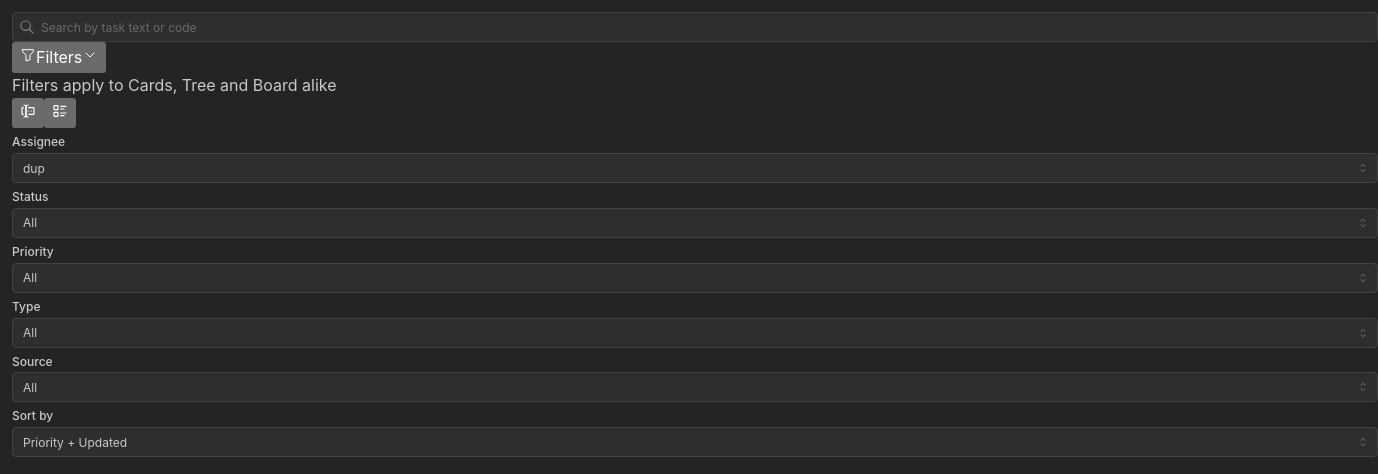
it: TaskFilters — sk-285.5.5 assignee directory search › an option already carrying the active assignee is not duplicated
Click the field labelled "Assignee" at x=695, y=168, box [12, 153, 1377, 183]
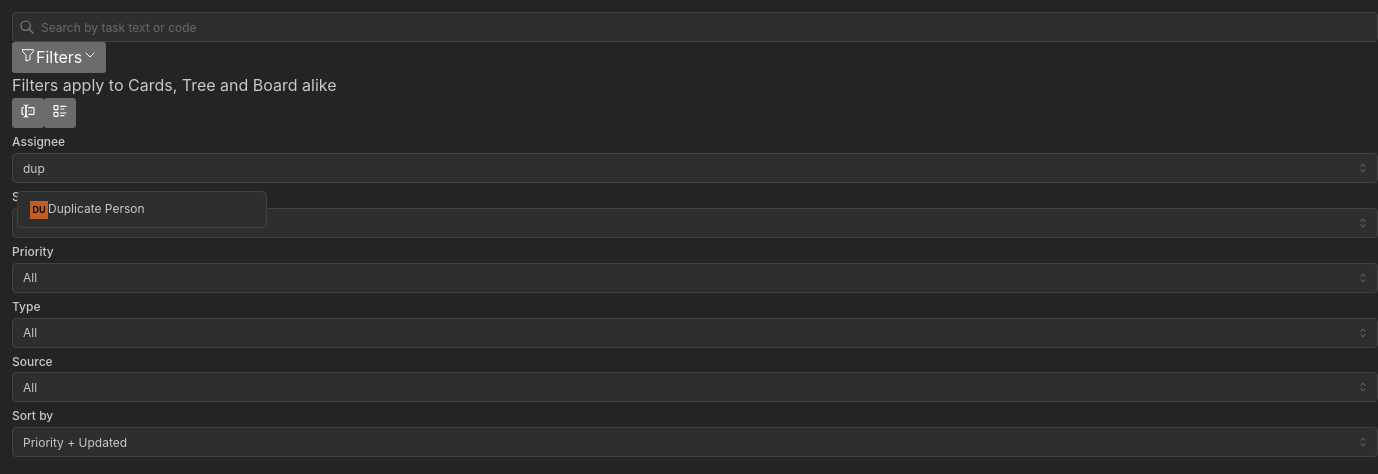
Now the number of options "DU Duplicate Person" is 1, box [30, 201, 144, 219]
